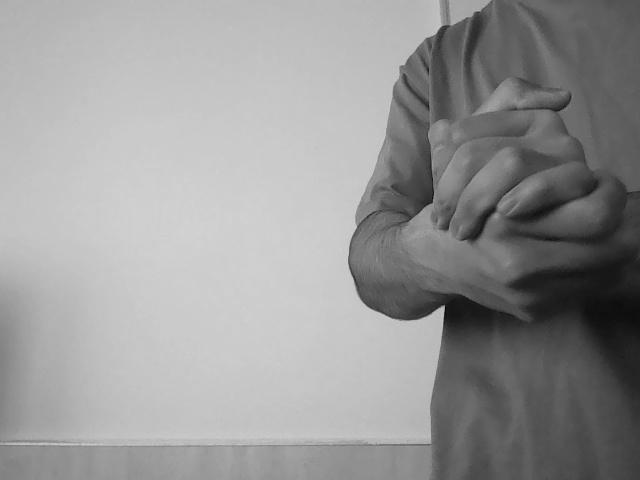friend: (409, 72, 640, 327)
